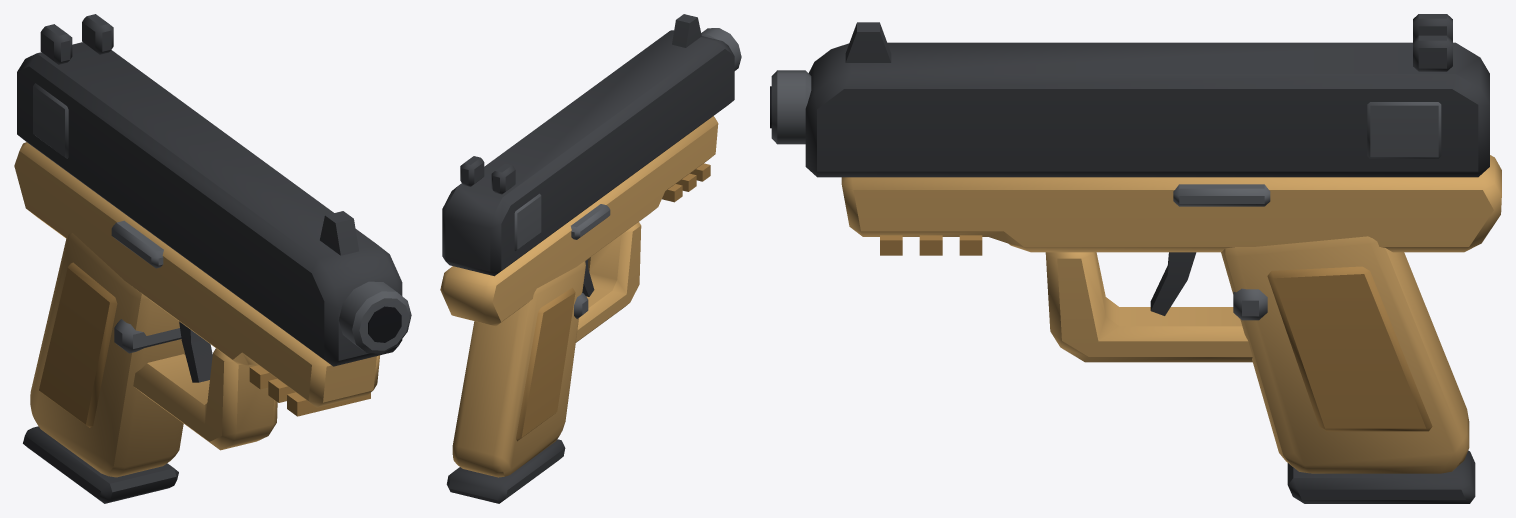
The model's file is pistol.glb.
The picture shows the model from 3 angles, left to right: view 1: azimuth 30°, elevation 25°; view 2: azimuth 150°, elevation 25°; view 3: azimuth 270°, elevation 25°; orthographic projection. The views are drawn at different scales.
Visible parts, largest first — view 1: pistol_frame, pistol_slide, pistol_trigger; view 2: pistol_frame, pistol_slide; view 3: pistol_frame, pistol_slide, pistol_trigger.
Part boxes in pixels (x1=…): pistol_frame: x1=14, y1=142, x2=379, y2=503; pistol_slide: x1=17, y1=14, x2=411, y2=366; pistol_trigger: x1=179, y1=321, x2=212, y2=382; pistol_frame: x1=440, y1=116, x2=718, y2=503; pistol_slide: x1=442, y1=14, x2=741, y2=276; pistol_frame: x1=841, y1=155, x2=1501, y2=503; pistol_slide: x1=770, y1=14, x2=1489, y2=177; pistol_trigger: x1=1150, y1=252, x2=1196, y2=315.
Size of the model in its own units: 0.038 by 0.178 by 0.2567.
